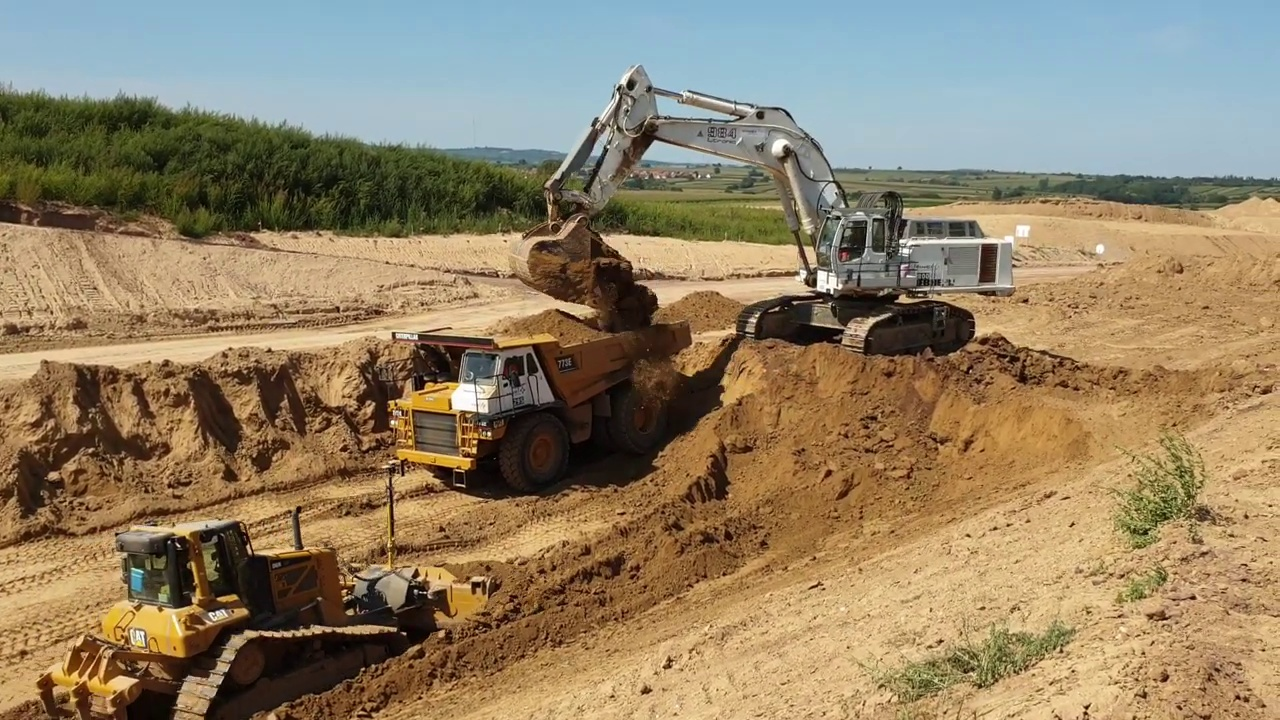bulldozer: (35, 464, 496, 720)
excavator: (509, 58, 1021, 361)
truck: (387, 320, 702, 499)
